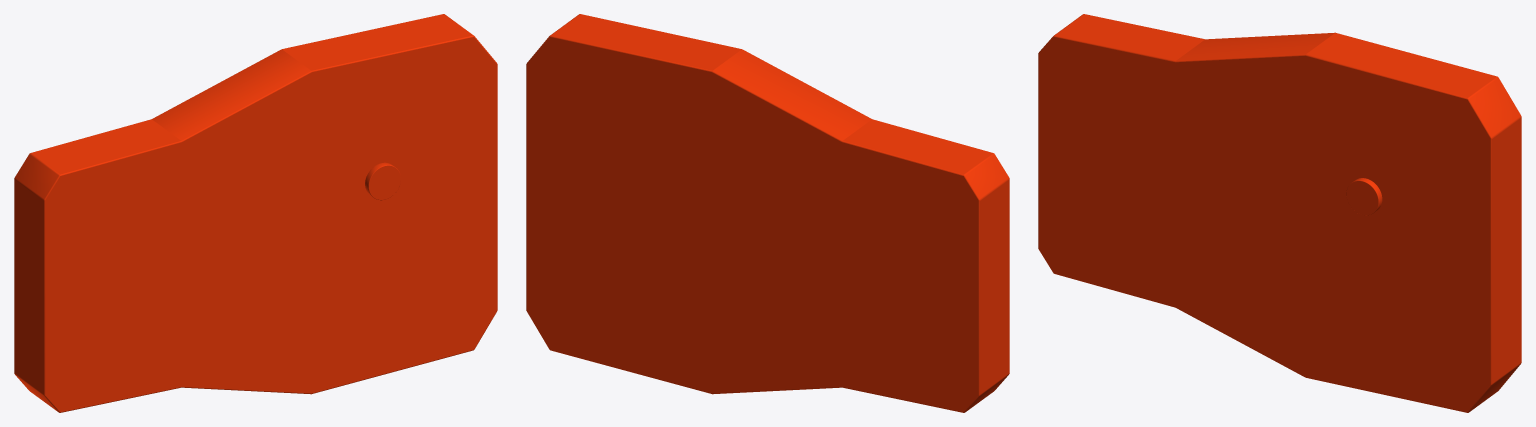
The model's file is base_link_worx_orange.obj.
The picture shows the model from 3 angles, left to right: view 1: azimuth 30°, elevation 25°; view 2: azimuth 150°, elevation 25°; view 3: azimuth 330°, elevation 25°; orthographic projection.
Parts seen in each view (by area): view 1: base_link__wr141e_orange_hood, base_link__height_adjustment_dial; view 2: base_link__wr141e_orange_hood; view 3: base_link__wr141e_orange_hood, base_link__height_adjustment_dial.
Part boxes in pixels (x1,y1,x2,y2): base_link__wr141e_orange_hood: [14, 14, 497, 412]; base_link__height_adjustment_dial: [365, 162, 400, 200]; base_link__wr141e_orange_hood: [526, 14, 1009, 412]; base_link__wr141e_orange_hood: [1038, 14, 1521, 412]; base_link__height_adjustment_dial: [1346, 178, 1382, 215].
Bounding box in the file's own units: 0.558 × 0.38 × 0.082.
